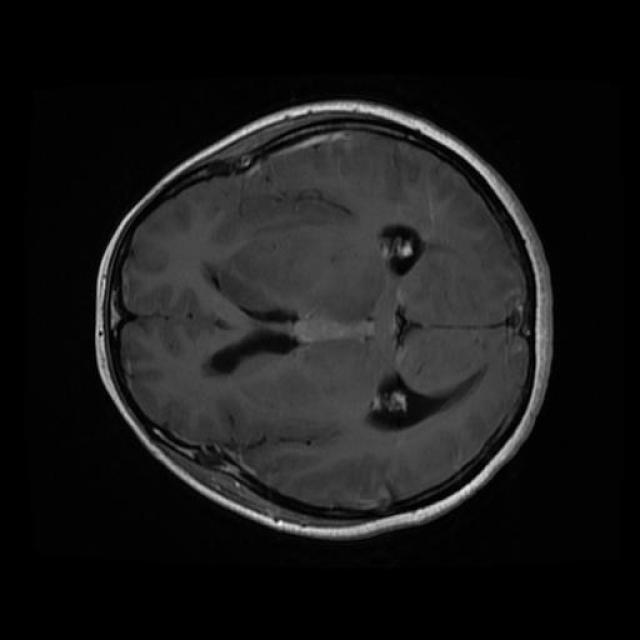Glioma: (206, 194, 385, 320)
